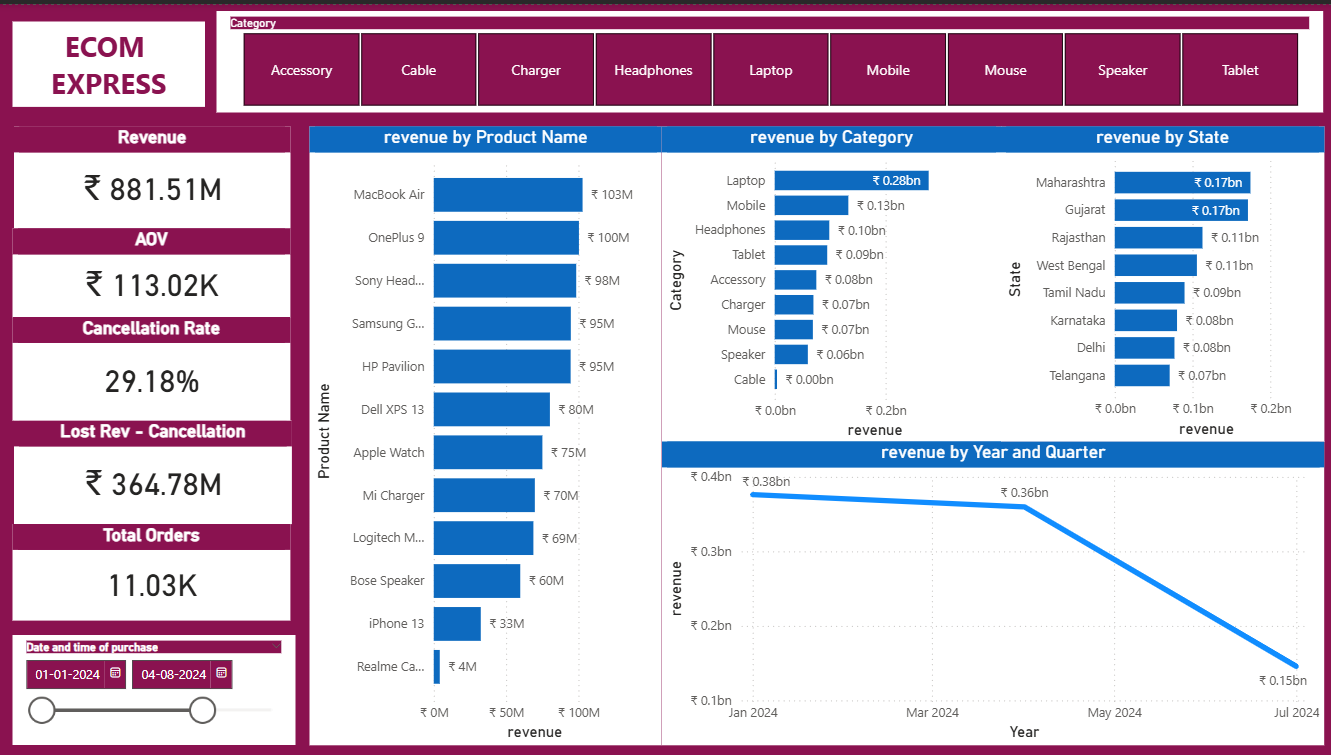

The page's visual inventory and layout, read from the dashboard file:
{"tool":"powerbi","page":{"name":"Page 1","canvas":[1280,720],"ordinal":0},"visuals":[{"type":"shape","box":[0,0,1280,115.4],"z":0},{"type":"textbox","box":[13.2,15.1,183.3,81.3],"z":1000},{"type":"shape","box":[0,116,294.9,604.6],"z":2000},{"type":"barChart","fields":{"Y":["Table.revenue"],"Category":["products.Product Name"]},"box":[295.4,115.4,335.4,589.2],"z":3000},{"type":"barChart","fields":{"Y":["Table.revenue"],"Category":["products.Category"]},"box":[630.8,115.4,323.1,301.5],"z":4000},{"type":"lineChart","fields":{"Category":["orders.Date and time of purchase.Variation.Date Hierarchy.Year","orders.Date and time of purchase.Variation.Date Hierarchy.Quarter","orders.Date and time of purchase.Variation.Date Hierarchy.Month","orders.Date and time of purchase.Variation.Date Hierarchy.Day"],"Y":["Table.revenue"]},"box":[630.8,415.4,630.8,289.2],"z":5000},{"type":"barChart","fields":{"Category":["customers.State"],"Y":["Table.revenue"]},"box":[953.8,115.4,307.7,300],"z":6000},{"type":"slicer","fields":{"Values":["products.Category"]},"box":[207.7,6.2,1053.8,96.9],"z":7000},{"type":"card","title":"Revenue","fields":{"Values":["Table.revenue"]},"box":[13.8,115.4,263.1,96.9],"z":8000},{"type":"card","title":"AOV","fields":{"Values":["Table.AOV"]},"box":[12.3,212.3,264.6,84.6],"z":9000},{"type":"card","title":"Lost Rev - Cancellation","fields":{"Values":["Table.lost_rev_cancellation"]},"box":[13.8,395.4,264.6,98.5],"z":10000},{"type":"card","title":"Cancellation Rate","fields":{"Values":["Table.cancellation rate"]},"box":[12.3,296.9,264.6,98.5],"z":11000},{"type":"card","title":"Total Orders","fields":{"Values":["CountNonNull(orders.OrderID)"]},"box":[12.3,493.8,264.6,92.3],"z":11001},{"type":"slicer","fields":{"Values":["orders.Date and time of purchase"]},"box":[12.3,600,269.2,104.6],"z":11002}]}

Visuals, with their boxes in screenshot pixels (x1, y1, x2, y2), scaled from the page's 1280x720 canvas onto the 1331x755 screenshot:
shape: detection(0, 0, 1330, 121)
textbox: detection(14, 16, 204, 101)
shape: detection(0, 122, 307, 754)
barChart - Table.revenue x products.Product Name: detection(307, 121, 656, 739)
barChart - Table.revenue x products.Category: detection(656, 121, 992, 437)
lineChart - orders.Date and time of purchase.Variation.Date Hierarchy.Year x orders.Date and time of purchase.Variation.Date Hierarchy.Quarter: detection(656, 436, 1312, 739)
barChart - customers.State x Table.revenue: detection(992, 121, 1312, 436)
slicer - products.Category: detection(216, 7, 1312, 108)
"Revenue" card: detection(14, 121, 288, 223)
"AOV" card: detection(13, 223, 288, 311)
"Lost Rev - Cancellation" card: detection(14, 415, 289, 518)
"Cancellation Rate" card: detection(13, 311, 288, 415)
"Total Orders" card: detection(13, 518, 288, 615)
slicer - orders.Date and time of purchase: detection(13, 629, 293, 739)
